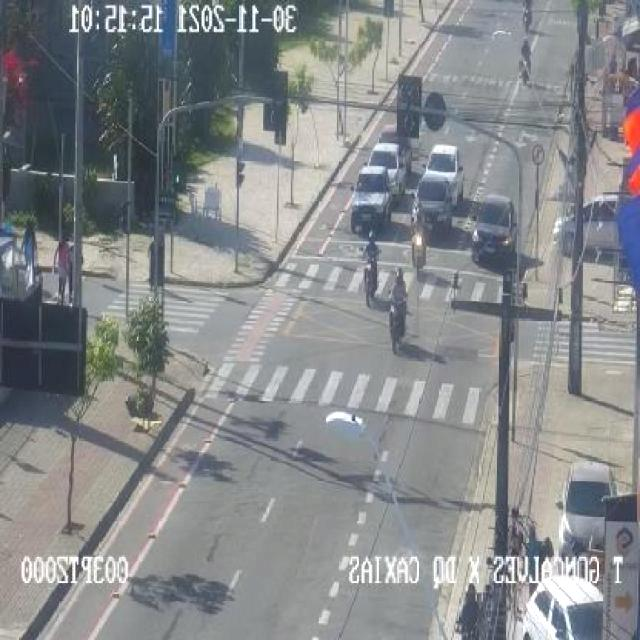Car: (521, 567, 606, 640), (562, 465, 617, 559), (470, 192, 518, 266), (349, 167, 390, 232), (412, 177, 451, 232), (368, 144, 406, 195), (426, 145, 457, 204)
Cycle: (386, 272, 410, 350), (361, 228, 382, 302), (408, 207, 426, 272), (515, 41, 535, 82), (520, 2, 532, 31)
